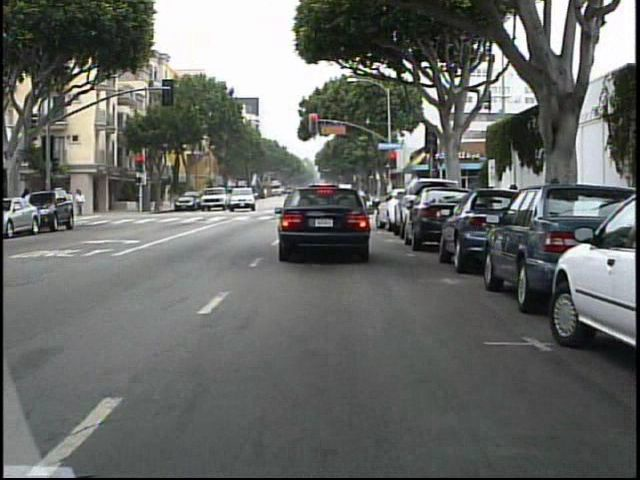person: (77, 187, 91, 218), (77, 188, 88, 219)
